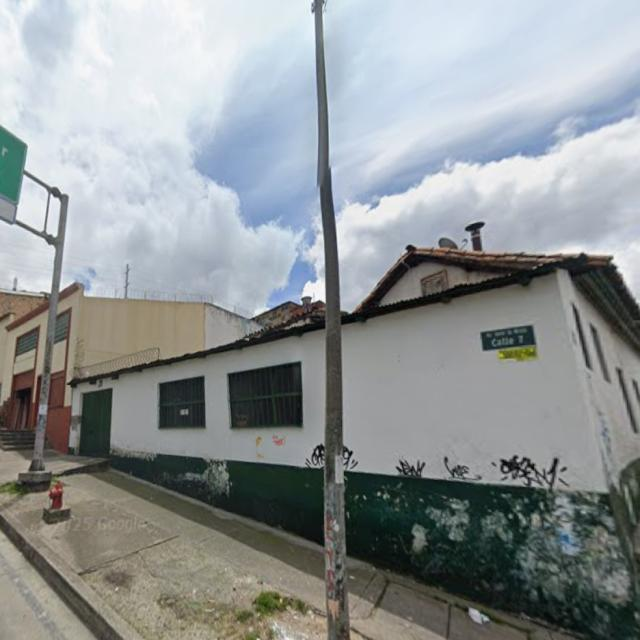fachada: (343, 247, 639, 639), (47, 284, 260, 451), (0, 289, 46, 354), (253, 297, 324, 329)
poste: (313, 0, 349, 639), (30, 194, 68, 471), (125, 264, 130, 298)
